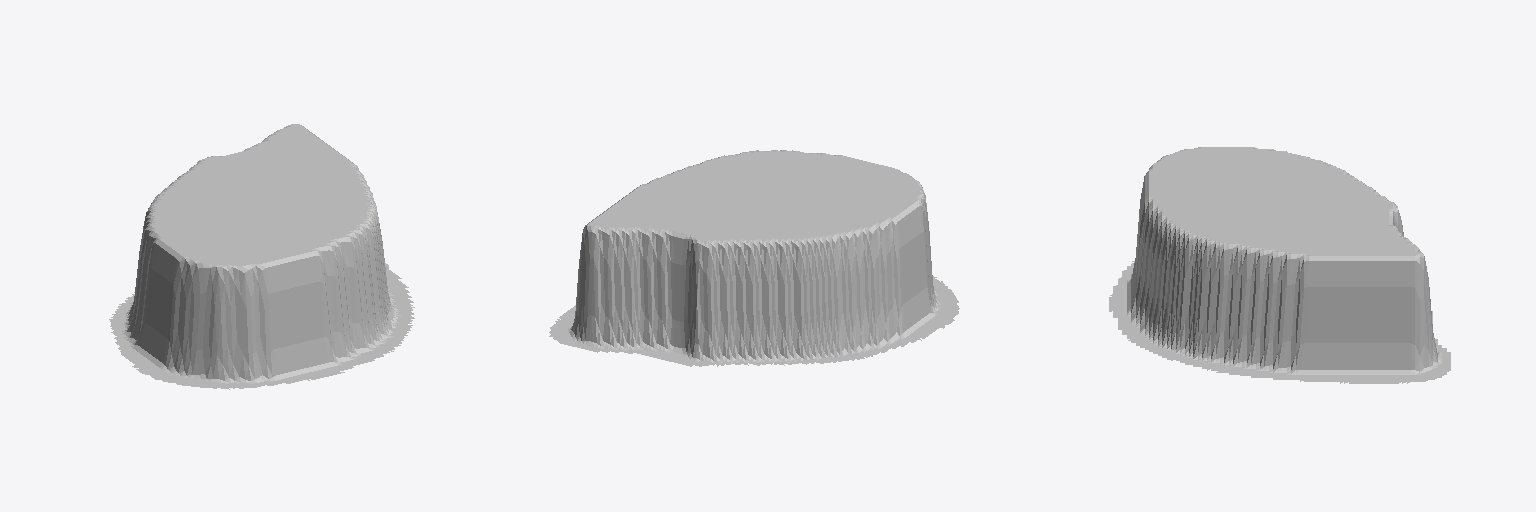
Rendered from mountain2.obj.
3 renders of one model, left to right at view 1: azimuth 30°, elevation 25°; view 2: azimuth 150°, elevation 25°; view 3: azimuth 270°, elevation 25°, orthographic.
Parts seen in each view (by area): view 1: Plane.002; view 2: Plane.002; view 3: Plane.002.
Part boxes in pixels (x1,y1,x2,y2): Plane.002: (109,124,414,389); Plane.002: (549,150,959,366); Plane.002: (1109,147,1450,383).
Bounding box in the file's own units: 176 × 61.26 × 173.